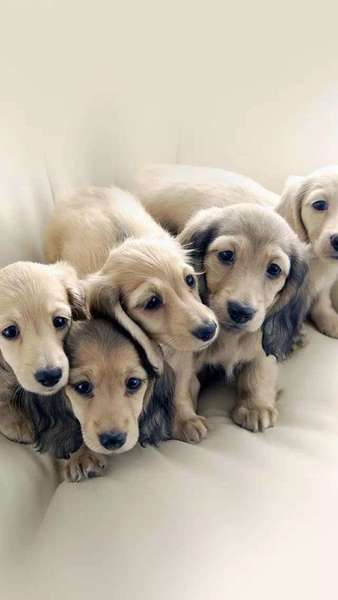dog: (69, 336, 169, 479), (178, 204, 292, 328), (98, 241, 213, 359), (2, 260, 69, 398), (294, 172, 338, 262)
